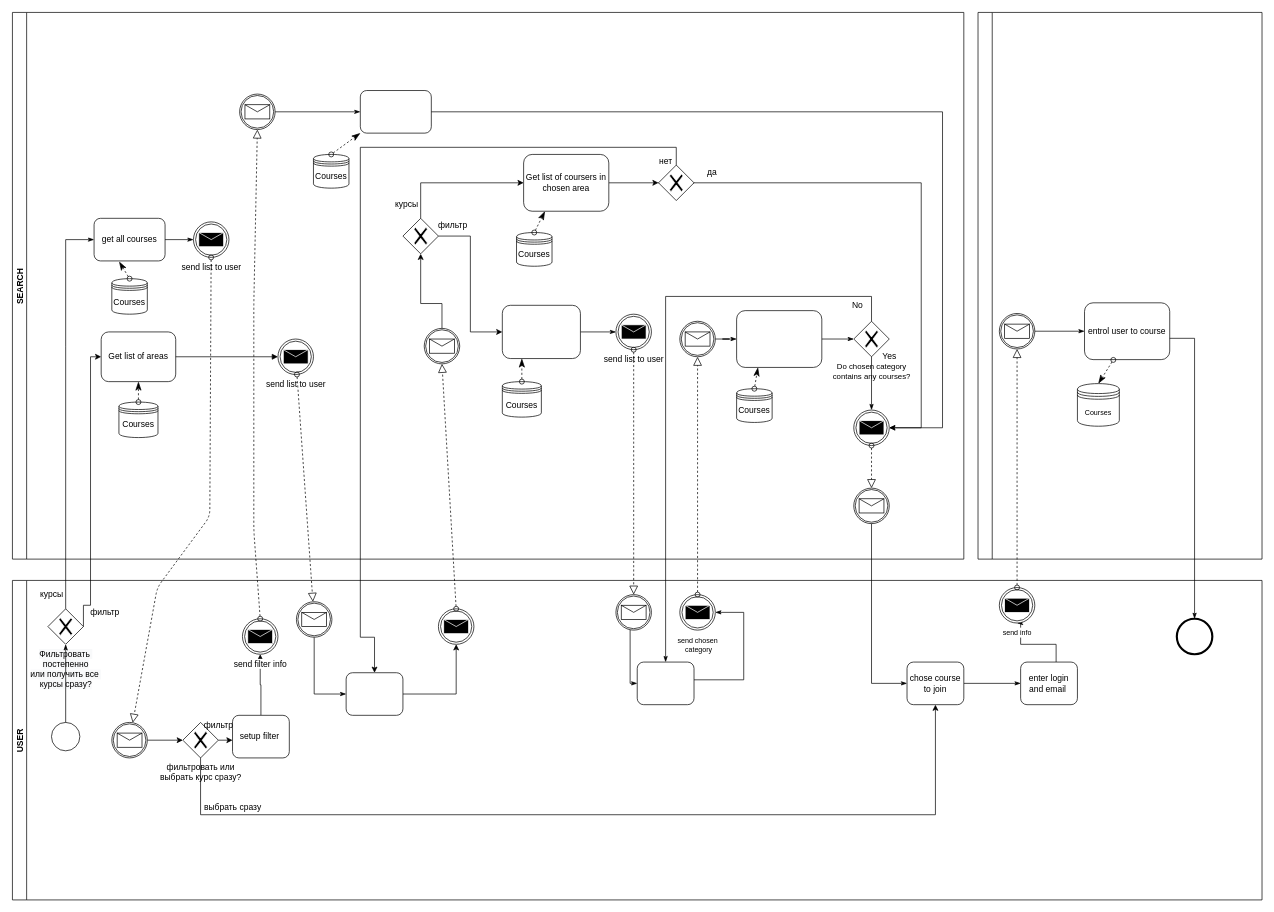
This 1274x912 diagram has some shape labels left out. Each missing label, with the centre of its shape:
chose area: (374,693)
chose category: (665,683)
end: (1194,636)
ENTROLL: (1119,285)
get filtered list: (395,111)
get list of categories of chosen area: (541,332)
Get list of coursers in chosen category: (779,338)
send chosen area: (456,626)
send list of corses: (871,427)
все устраивает?: (676,182)
фильтровать далее или получить курсы по area?: (420,236)
хочу на курс: (65,736)
